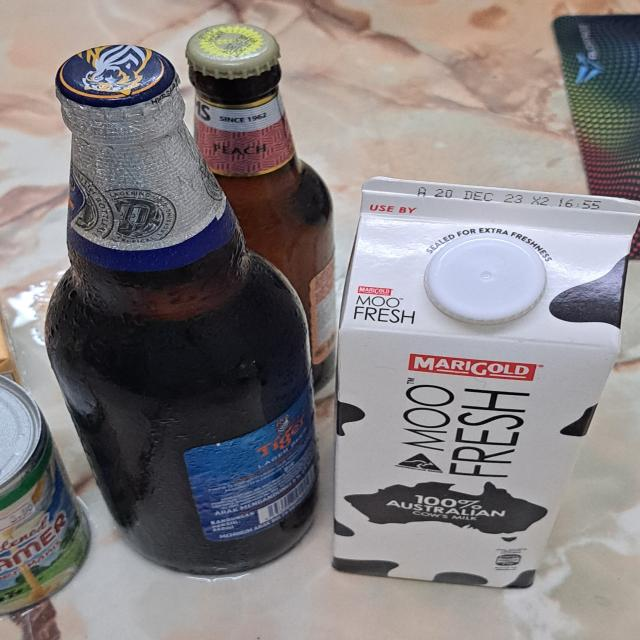can: (0, 370, 97, 614)
drink carton: (332, 174, 640, 589)
glass bottle: (44, 43, 320, 578), (189, 22, 340, 398)
plastic bottle cap: (422, 235, 550, 324)
